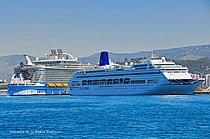Ship: (66, 49, 210, 97)
